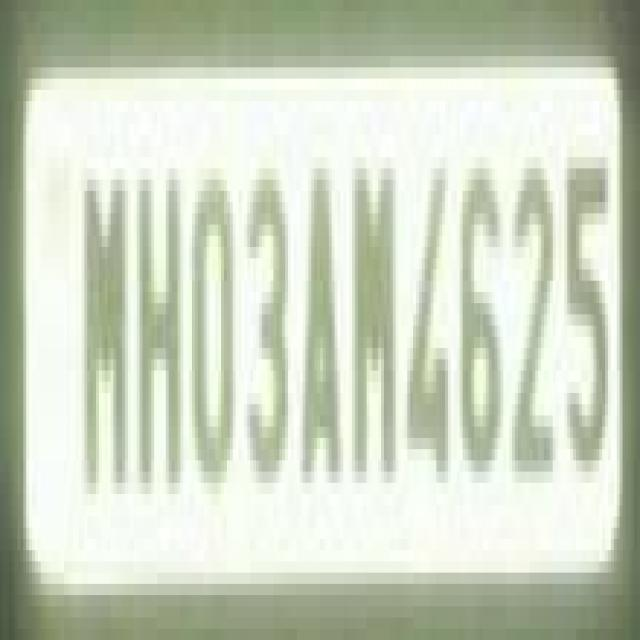license_plate: (0, 0, 614, 595)
